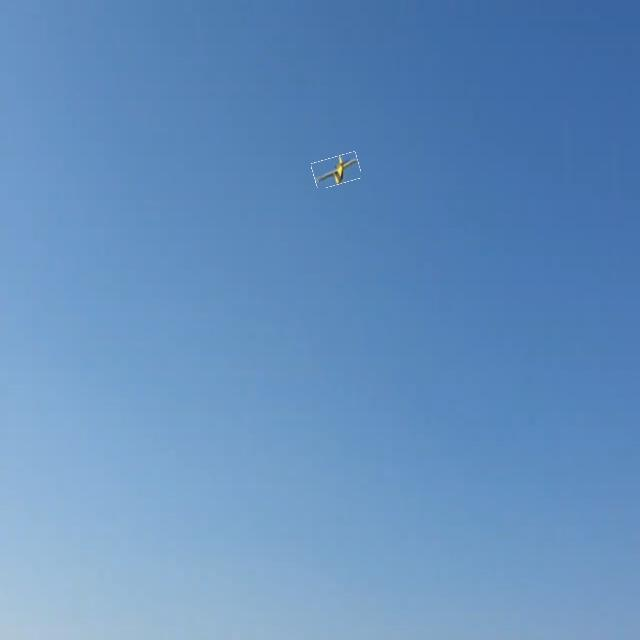UAV: (310, 146, 357, 194)
